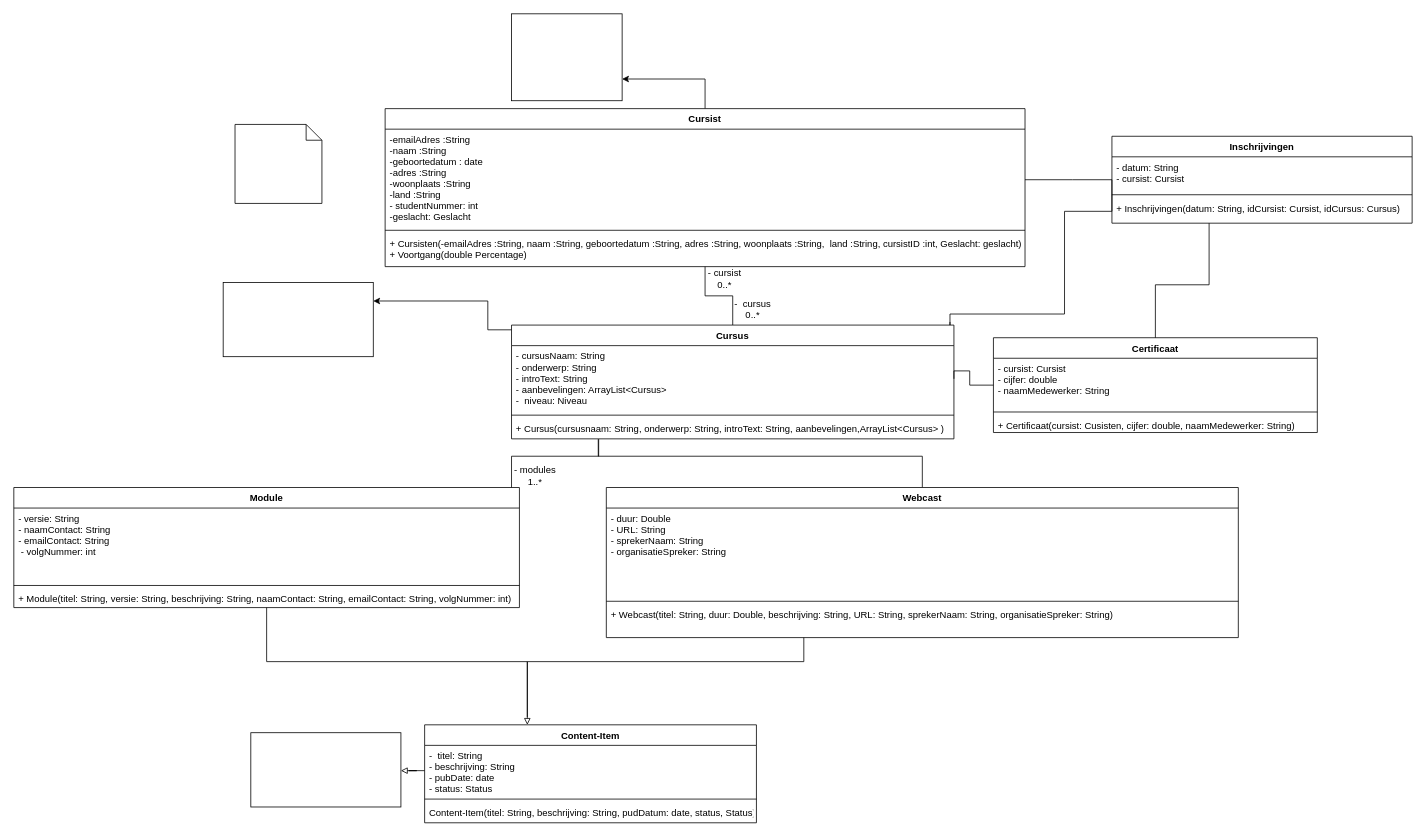
Some shapes in this 1426 by 839 pixel diagram are drawn without their labels. Each missing label, with the centre of its shape:
"<<Enumeration>> Geslacht Man Vrouw Ander" goes at [566,57].
"<<Enumeration>> Niveau Beginner Gevorderd Expert" goes at [297,319].
"<<Enumeration>> Status Concept Archief Gearchiveerd" goes at [325,769].
"Getters, setters en toString methode is in elke class geïmplementeerd." goes at [278,163].
